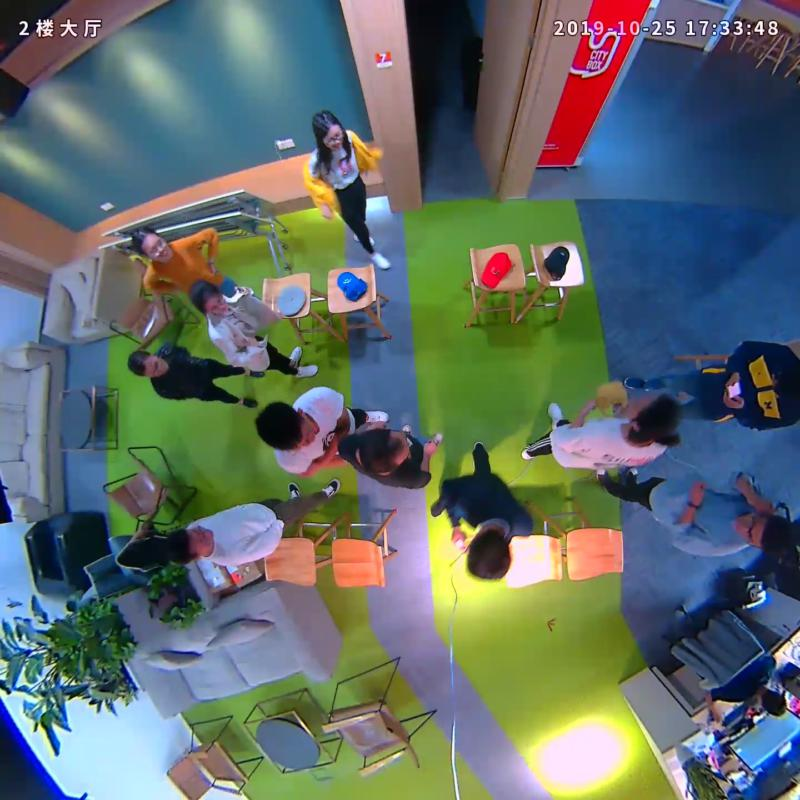head: (256, 402, 318, 452), (625, 392, 681, 441), (733, 511, 793, 554), (467, 529, 511, 581), (360, 427, 409, 473), (165, 527, 211, 563), (130, 228, 172, 263), (189, 280, 227, 316), (312, 110, 343, 149), (128, 349, 168, 379)
